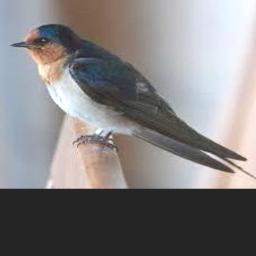Swallow: (10, 23, 256, 185)
